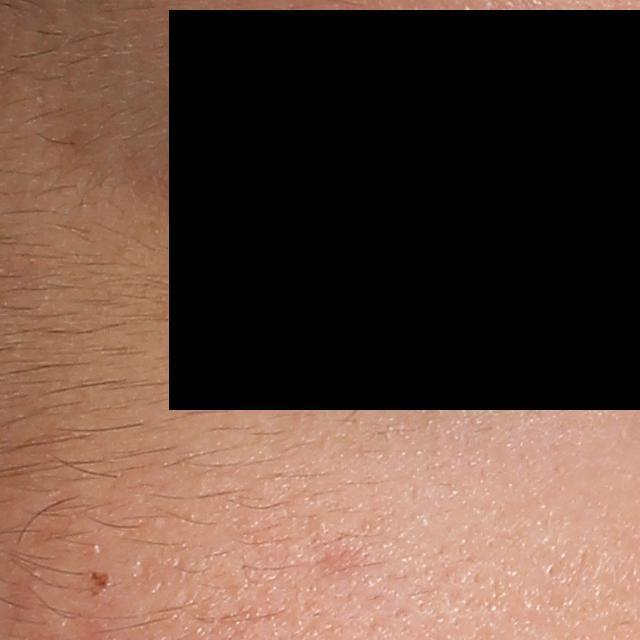nevus: (84, 568, 111, 599)
